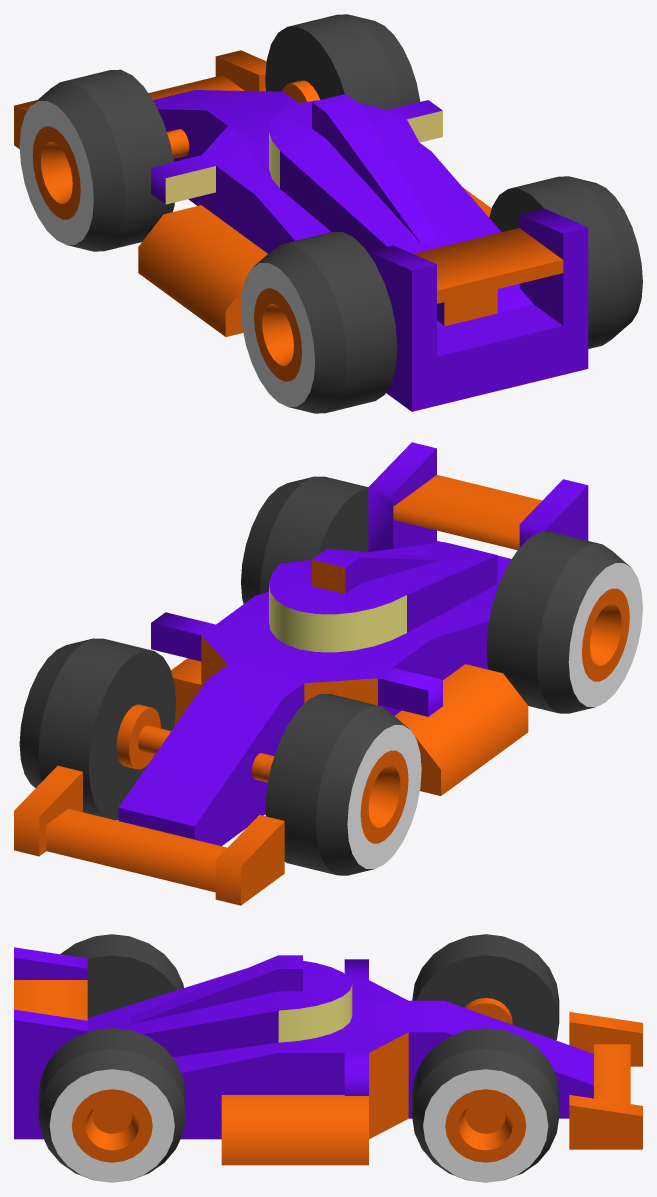
File: ppRace.glb
3 renders of one model, top to bottom at view 1: azimuth 30°, elevation 25°; view 2: azimuth 150°, elevation 25°; view 3: azimuth 270°, elevation 25°, orthographic. The views are drawn at different scales.
Visible parts, largest first — view 1: Mesh_body, Mesh_wheel_frontLeft (×4), Mesh_body_1, Mesh_wheel_frontLeft_2 (×2), Mesh_wheel_frontLeft_1 (×2), Mesh_body_3; view 2: Mesh_body, Mesh_wheel_frontLeft (×4), Mesh_body_1, Mesh_wheel_frontLeft_2 (×2), Mesh_wheel_frontLeft_1 (×2), Mesh_body_2; view 3: Mesh_body, Mesh_wheel_frontLeft (×4), Mesh_body_1, Mesh_wheel_frontLeft_2 (×2), Mesh_wheel_frontLeft_1 (×2), Mesh_body_2.
Part boxes in pixels (x1=…): Mesh_body: x1=151, y1=90, x2=588, y2=411; Mesh_wheel_frontLeft (×4): x1=31, y1=14, x2=642, y2=413; Mesh_body_1: x1=14, y1=50, x2=563, y2=336; Mesh_wheel_frontLeft_2 (×2): x1=19, y1=101, x2=314, y2=406; Mesh_wheel_frontLeft_1 (×2): x1=32, y1=126, x2=301, y2=381; Mesh_body_3: x1=165, y1=110, x2=442, y2=204; Mesh_body: x1=118, y1=442, x2=588, y2=846; Mesh_wheel_frontLeft (×4): x1=19, y1=476, x2=631, y2=875; Mesh_body_1: x1=14, y1=475, x2=542, y2=905; Mesh_wheel_frontLeft_2 (×2): x1=347, y1=563, x2=642, y2=868; Mesh_wheel_frontLeft_1 (×2): x1=360, y1=588, x2=629, y2=843; Mesh_body_2: x1=269, y1=585, x2=406, y2=652; Mesh_body: x1=14, y1=947, x2=593, y2=1139; Mesh_wheel_frontLeft (×4): x1=38, y1=934, x2=559, y2=1180; Mesh_body_1: x1=14, y1=980, x2=642, y2=1165; Mesh_wheel_frontLeft_2 (×2): x1=49, y1=1069, x2=548, y2=1182; Mesh_wheel_frontLeft_1 (×2): x1=71, y1=1089, x2=526, y2=1162; Mesh_body_2: x1=278, y1=985, x2=352, y2=1042.
Size of the model in its own units: 1.3 by 0.7325 by 2.56.
